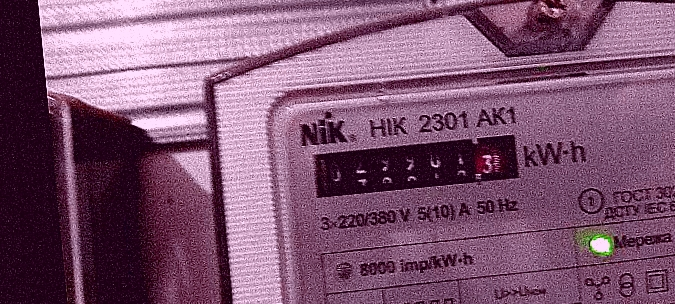0: (425, 144, 442, 170), (326, 160, 344, 183)
1: (450, 142, 466, 166)
2: (350, 155, 368, 175)
3: (478, 151, 493, 174)
9: (401, 148, 417, 171), (376, 151, 390, 174)
screen: (298, 122, 530, 208)
